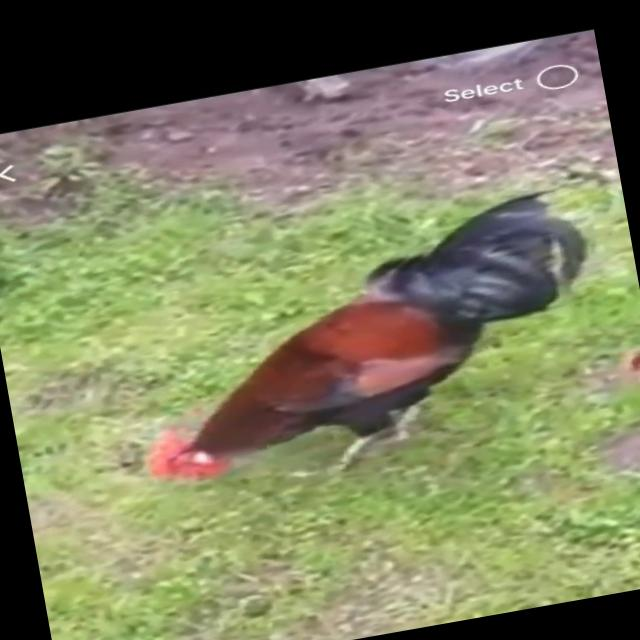feeding: (90, 174, 637, 516)
